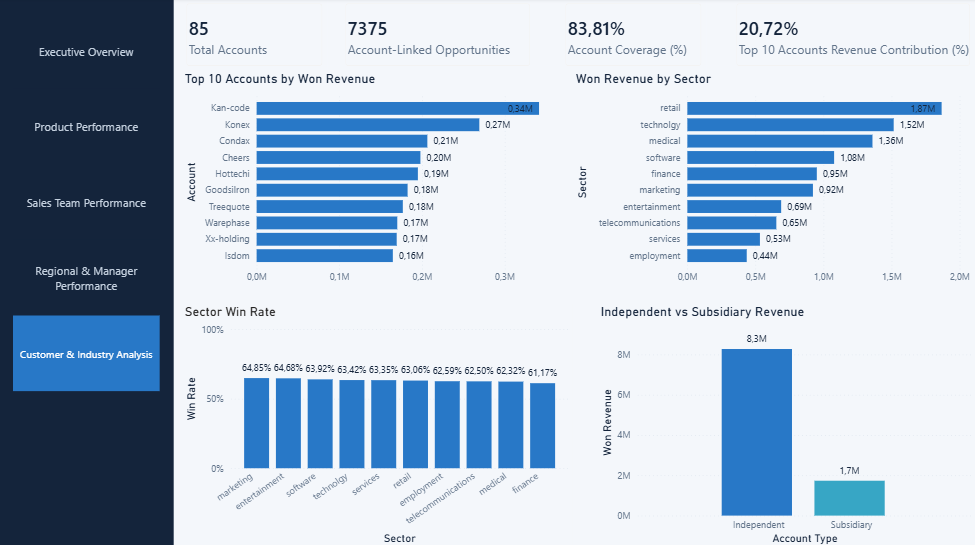

Layout of this report page (visuals, bound fields, positions):
{"tool":"powerbi","page":{"name":"Customer & Industry Analysis","canvas":[1280,720],"ordinal":4},"visuals":[{"type":"shape","box":[0,0,230,720],"z":0},{"type":"pageNavigator","box":[20,20,192,496],"z":1000},{"type":"cardVisual","fields":{"Data":["Count(accounts.account)"]},"box":[240,0,192,96],"z":2000},{"type":"cardVisual","fields":{"Data":["sales_pipeline.Top 10 Accounts Revenue Contribution (%)"]},"box":[960,0,320,96],"z":3000},{"type":"cardVisual","fields":{"Data":["sales_pipeline.Account Coverage (%)"]},"box":[736,0,192,96],"z":4000},{"type":"cardVisual","fields":{"Data":["sales_pipeline.Account-Linked Opportunities"]},"box":[448,0,256,96],"z":5000},{"type":"clusteredBarChart","title":"Top 10 Accounts by Won Revenue","fields":{"Category":["accounts.account"],"Y":["sales_pipeline.Total Won Revenue"]},"box":[240,96,512,288],"z":6000},{"type":"clusteredBarChart","fields":{"Category":["accounts.sector"],"Y":["sales_pipeline.Total Won Revenue"]},"box":[752,96,528,288],"z":7000},{"type":"clusteredColumnChart","title":"Sector Win Rate","fields":{"Category":["accounts.sector"],"Y":["sales_pipeline.Overall Win Rate"]},"box":[240,400,512,320],"z":8000},{"type":"clusteredColumnChart","title":"Independent vs Subsidiary Revenue","fields":{"Y":["sales_pipeline.Total Won Revenue"],"Category":["accounts.Account Type"]},"box":[784,400,496,320],"z":9000}]}

Visuals, with their boxes on the page's 1280x720 design canvas (x1, y1, x2, y2). These are canvas units, not pixel positions in the 975x545 screenshot, which may show the page scaled, cropped or inside an application window:
shape: <box>0,0,230,720</box>
pageNavigator: <box>20,20,212,516</box>
cardVisual - Count(accounts.account): <box>240,0,432,96</box>
cardVisual - sales_pipeline.Top 10 Accounts Revenue Contribution (%): <box>960,0,1280,96</box>
cardVisual - sales_pipeline.Account Coverage (%): <box>736,0,928,96</box>
cardVisual - sales_pipeline.Account-Linked Opportunities: <box>448,0,704,96</box>
"Top 10 Accounts by Won Revenue" clusteredBarChart: <box>240,96,752,384</box>
clusteredBarChart - accounts.sector x sales_pipeline.Total Won Revenue: <box>752,96,1280,384</box>
"Sector Win Rate" clusteredColumnChart: <box>240,400,752,720</box>
"Independent vs Subsidiary Revenue" clusteredColumnChart: <box>784,400,1280,720</box>
